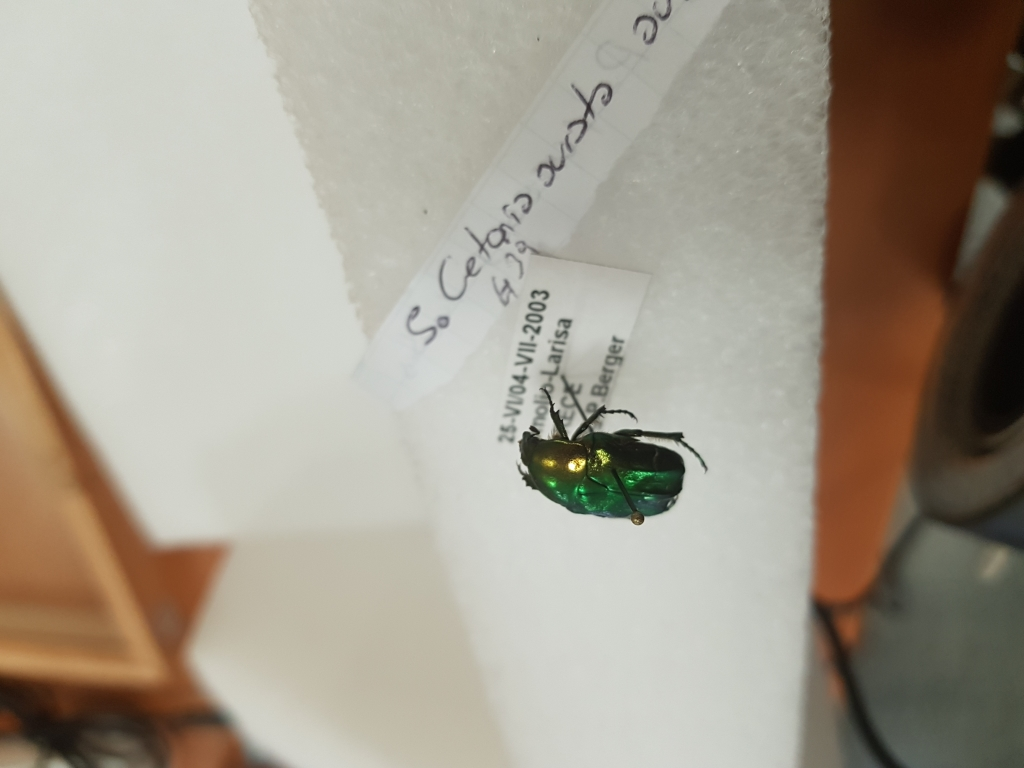Cetonia_aurata: (500, 385, 714, 537)
